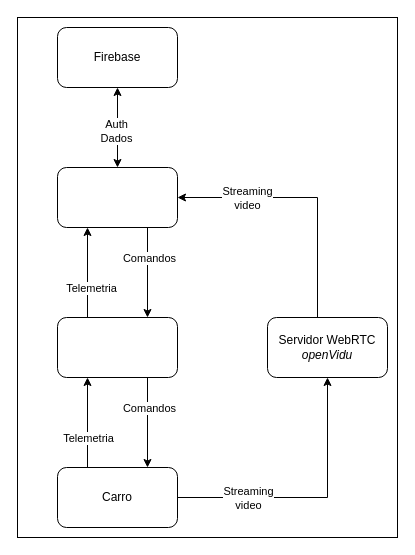
Some shapes in this 415 by 555 pixel diagram are drawn without their labels. Here are the shapes that lost their labels. From the top down, the centre of each, then its label:
At (x=117, y=197): "Interface usuário Nextjs React".
At (x=117, y=347): "Broker - MQTT".
